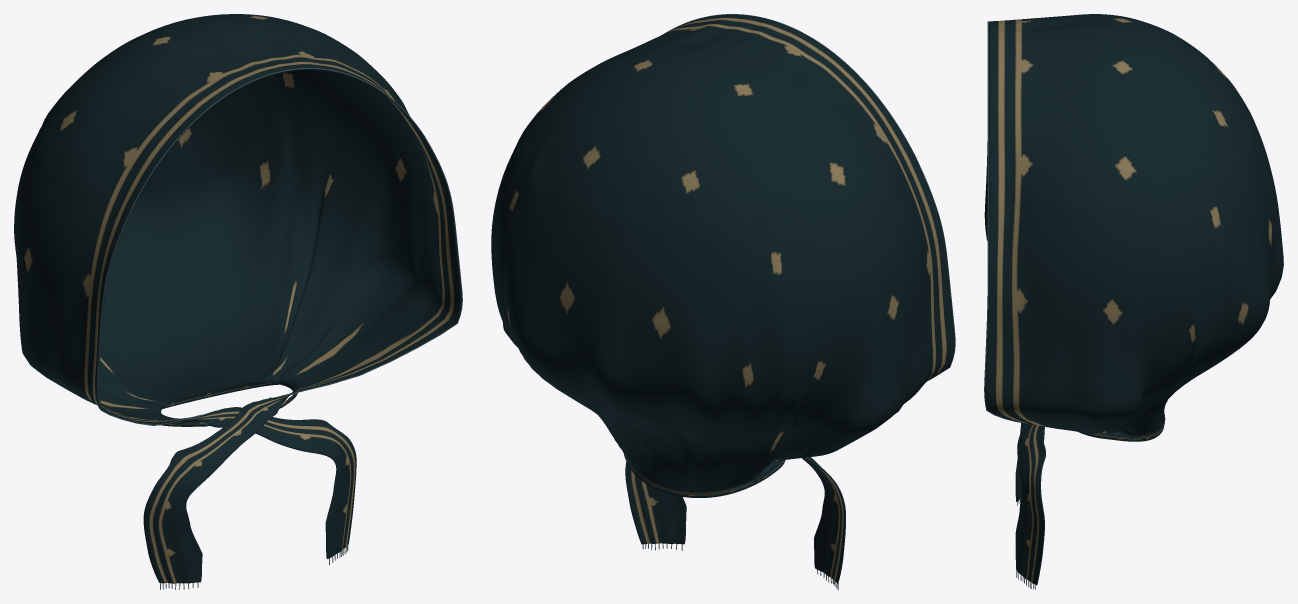
Rendered from Masculine-buzz-tshirt-pashmina249-headgear.glb.
The picture shows the model from 3 angles, left to right: view 1: azimuth 30°, elevation 25°; view 2: azimuth 150°, elevation 25°; view 3: azimuth 270°, elevation 25°; orthographic projection. The views are drawn at different scales.
Parts seen in each view (by area): view 1: 226 headgear / Headwear / continuous woven pashmina239, 226 headgear / Headwear / face edge239; view 2: 226 headgear / Headwear / continuous woven pashmina239, 226 headgear / Headwear / face edge239; view 3: 226 headgear / Headwear / continuous woven pashmina239, 226 headgear / Headwear / face edge239.
Part boxes in pixels (x1=…): 226 headgear / Headwear / continuous woven pashmina239: x1=14, y1=14, x2=461, y2=583; 226 headgear / Headwear / face edge239: x1=97, y1=68, x2=462, y2=425; 226 headgear / Headwear / continuous woven pashmina239: x1=491, y1=14, x2=954, y2=583; 226 headgear / Headwear / face edge239: x1=664, y1=14, x2=955, y2=380; 226 headgear / Headwear / continuous woven pashmina239: x1=985, y1=14, x2=1283, y2=585; 226 headgear / Headwear / face edge239: x1=984, y1=21, x2=1020, y2=422.
Size of the model in its own units: 1.03 by 1.35 by 0.7152.
3 materials, 1 textured.
